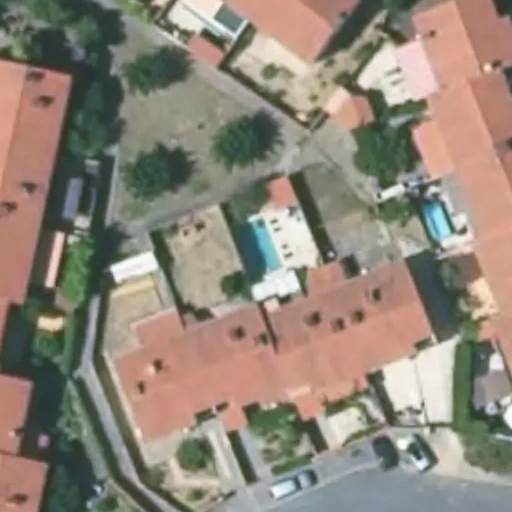pool: (233, 222, 278, 261)
